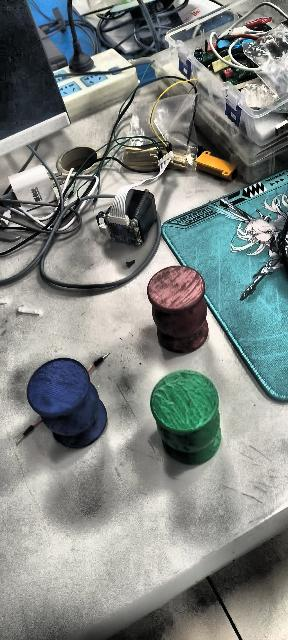blue: (26, 357, 108, 449)
green: (150, 369, 222, 465)
red: (133, 263, 226, 349)
